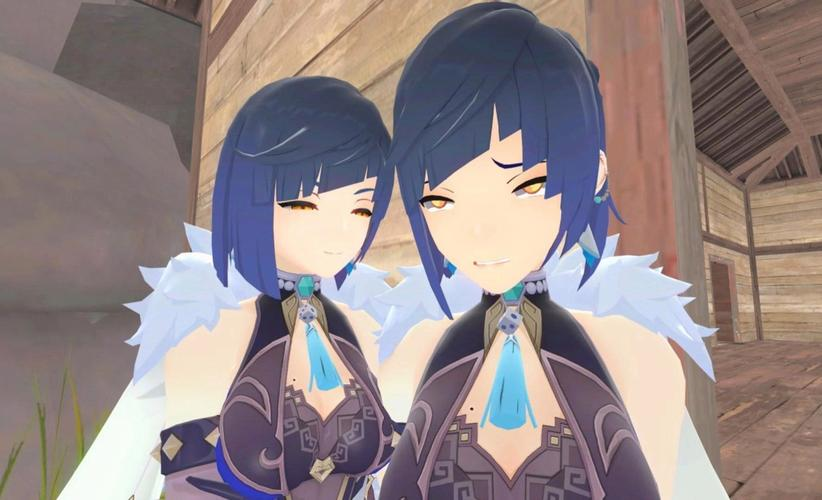夜兰: (384, 11, 730, 500), (135, 59, 384, 500)
